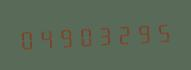five: (150, 17, 168, 46)
four: (36, 23, 54, 52)
nine: (55, 22, 73, 51), (131, 18, 149, 47)
three: (93, 20, 111, 49)
two: (112, 19, 130, 48)
zero: (17, 24, 35, 53), (74, 21, 92, 50)
